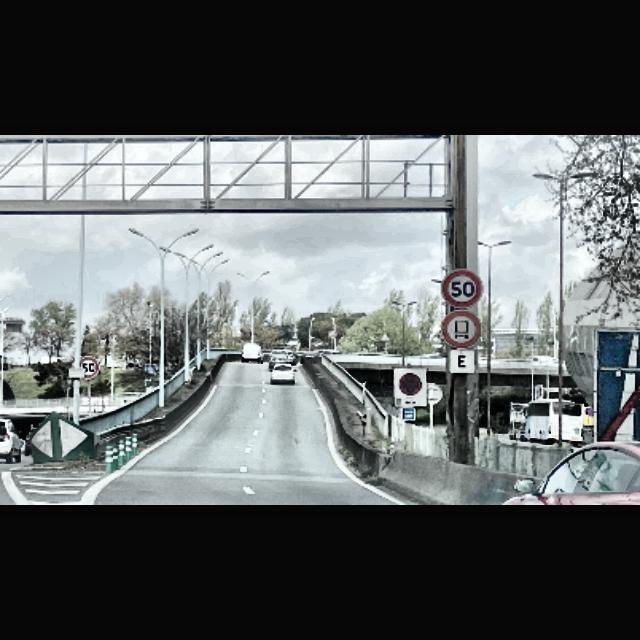speed_50: (441, 270, 484, 310)
